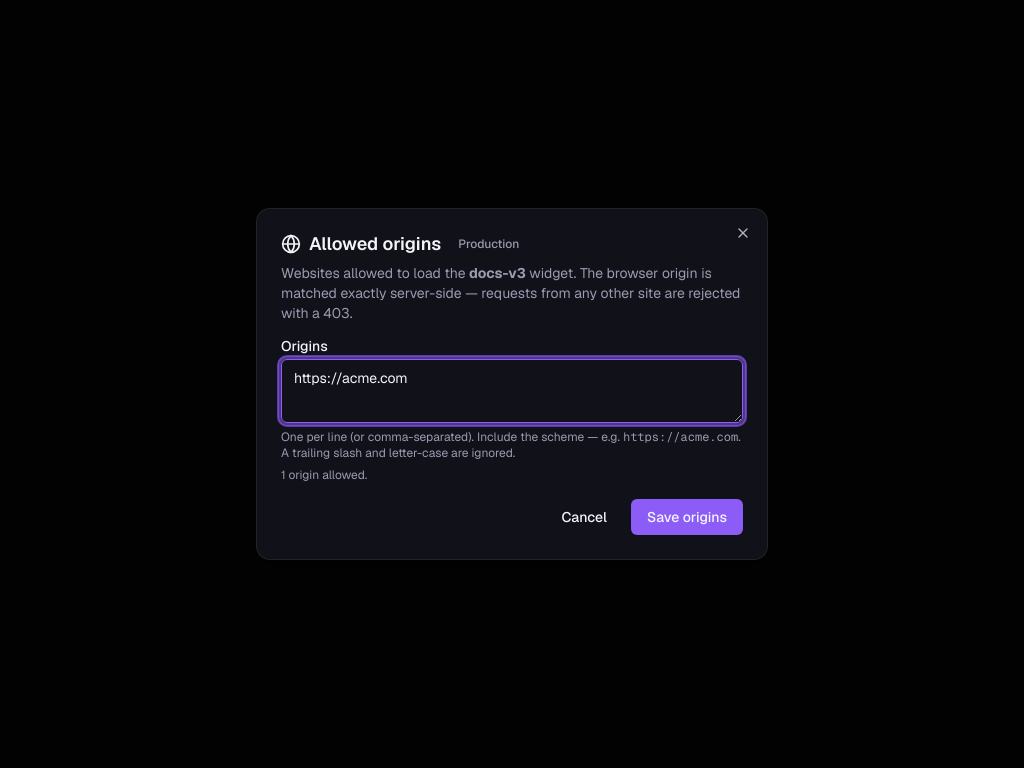
it: WidgetOriginsDialog › surfaces a 422 error in the DOM and keeps the dialog open (R14)
Step 1. Click the button with test id "admin-widget-origins-save" → [687, 517], box [631,499,743,535]
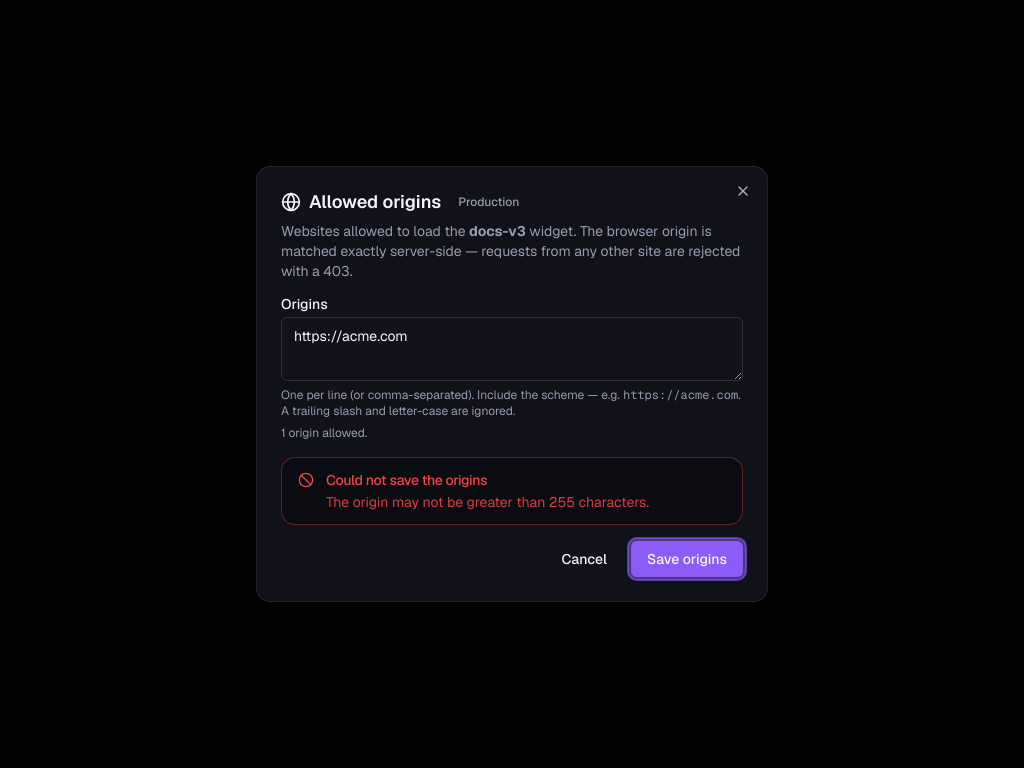
Expected: the dialog with test id "admin-widget-origins-dialog" is shown, [256,166,768,602]
Expected: the message with test id "admin-widget-origins-error" shows "may not be greater than 255 characters", [326,493,649,511]
